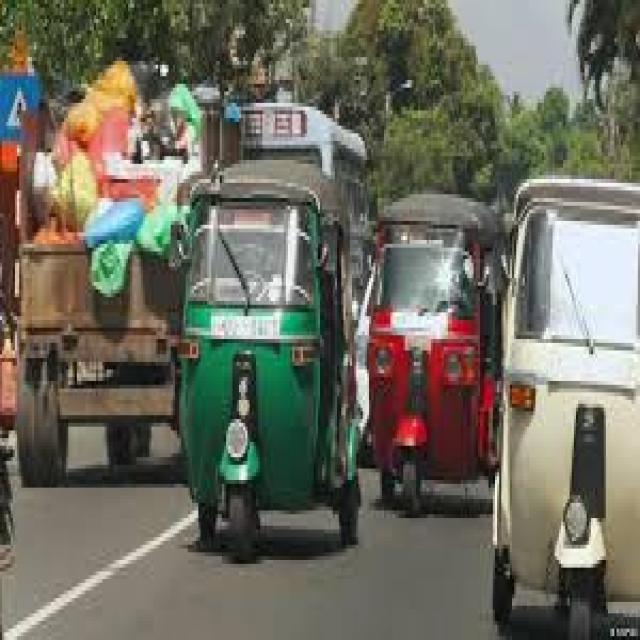three wheeler: (179, 107, 363, 556), (493, 179, 638, 640), (369, 194, 497, 510)
